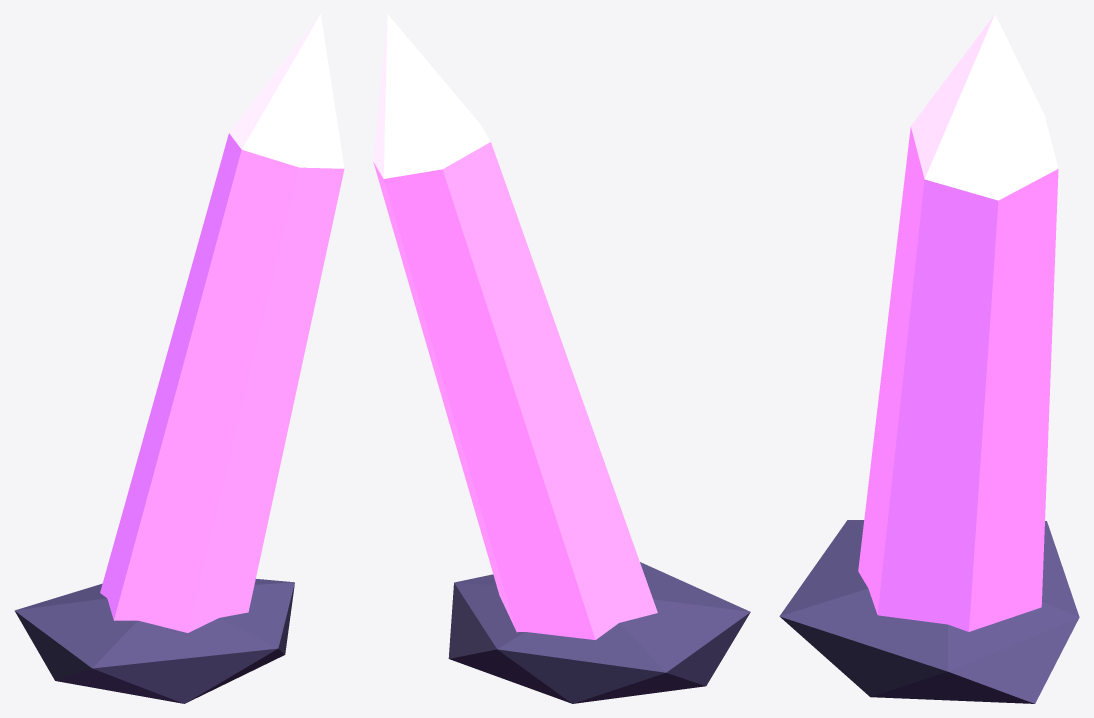
Rendered from Energy_Crystal_Shard.fbx.
3 views of the same model, side by side, from view 1: azimuth 30°, elevation 25°; view 2: azimuth 150°, elevation 25°; view 3: azimuth 270°, elevation 25° (orthographic). The views are drawn at different scales.
Visible parts, largest first — view 1: Energy_Crystal_Shard; view 2: Energy_Crystal_Shard; view 3: Energy_Crystal_Shard.
Boxes of the visible parts, box(x1,y1,x2,y2) form: Energy_Crystal_Shard: box(14, 14, 344, 703); Energy_Crystal_Shard: box(373, 14, 750, 703); Energy_Crystal_Shard: box(779, 14, 1079, 703).
Bounding box in the file's own units: 1.77 × 3.32 × 1.22.
1 material, 1 textured.
